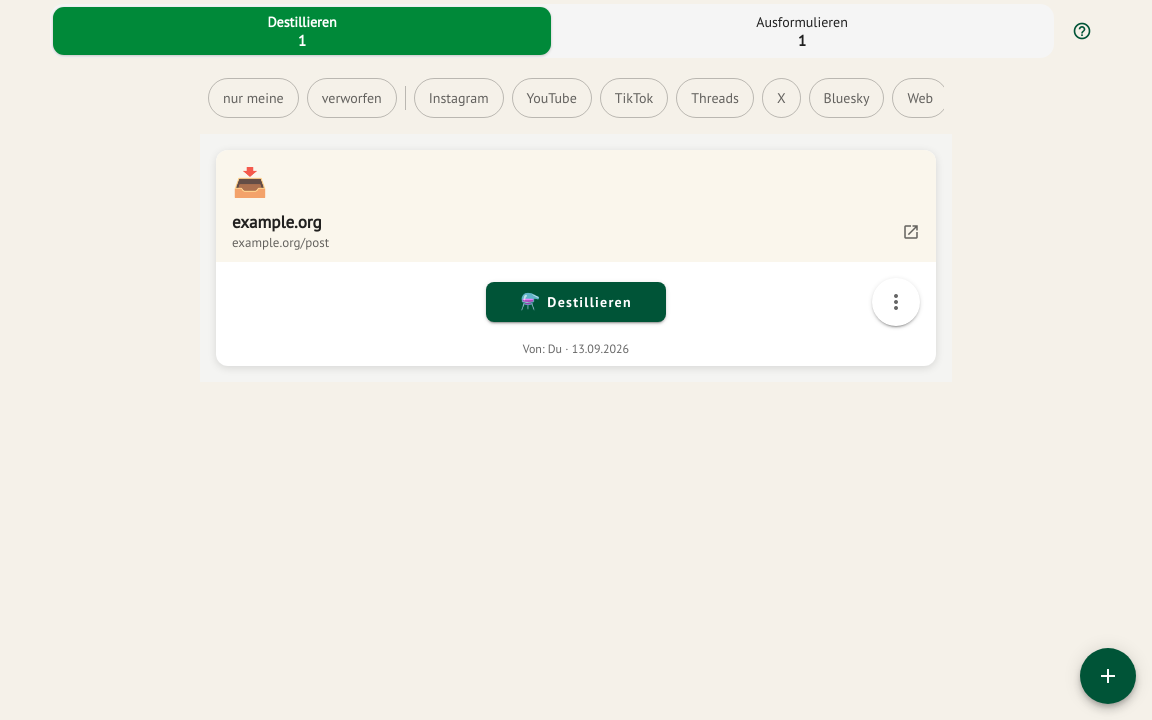
Test: RawInputListComponent › Karte › beschriftet den Primaerknopf nach Stufe und laesst ihn bei Verworfenem weg
Expected: the text with class "knopf-wort" reads "Destillieren", [547,294,632,310]
Click the tab with class "tab" showing "Ausformulieren 1": click(802, 31) [553,7,1051,55]
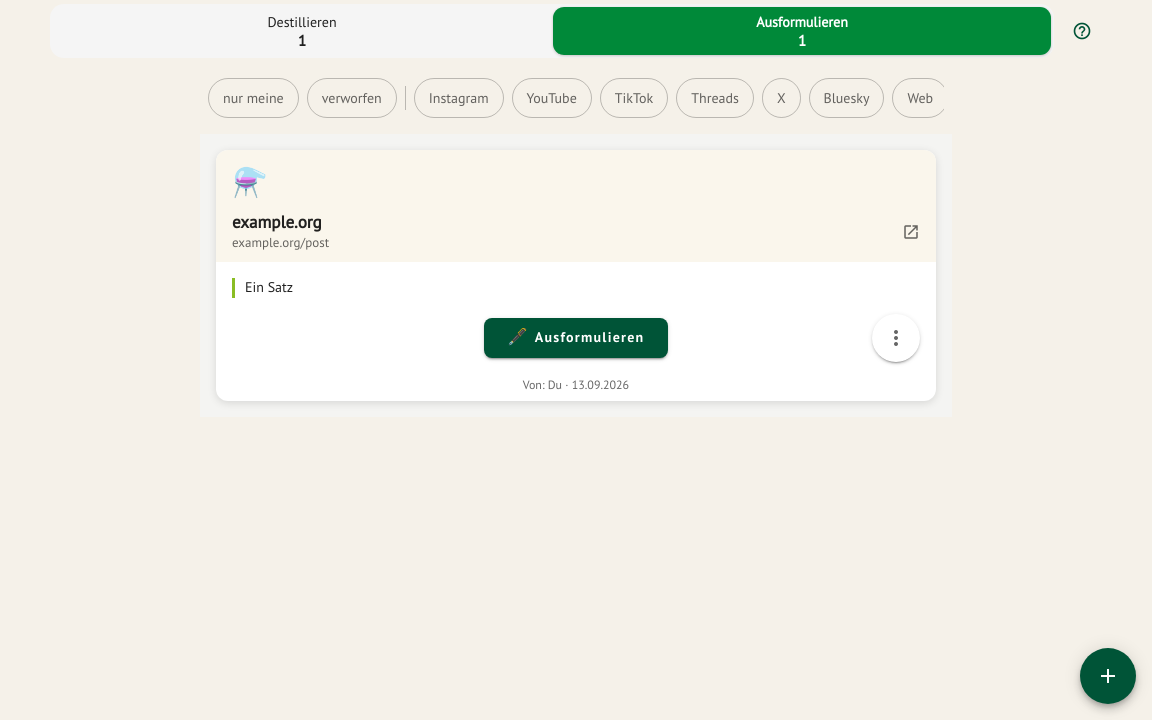
Expected: the text with class "knopf-wort" reads "Ausformulieren", [535,329,644,346]
Click the tab with class "tab" showing "Destillieren 1": click(302, 31) [53,7,551,55]
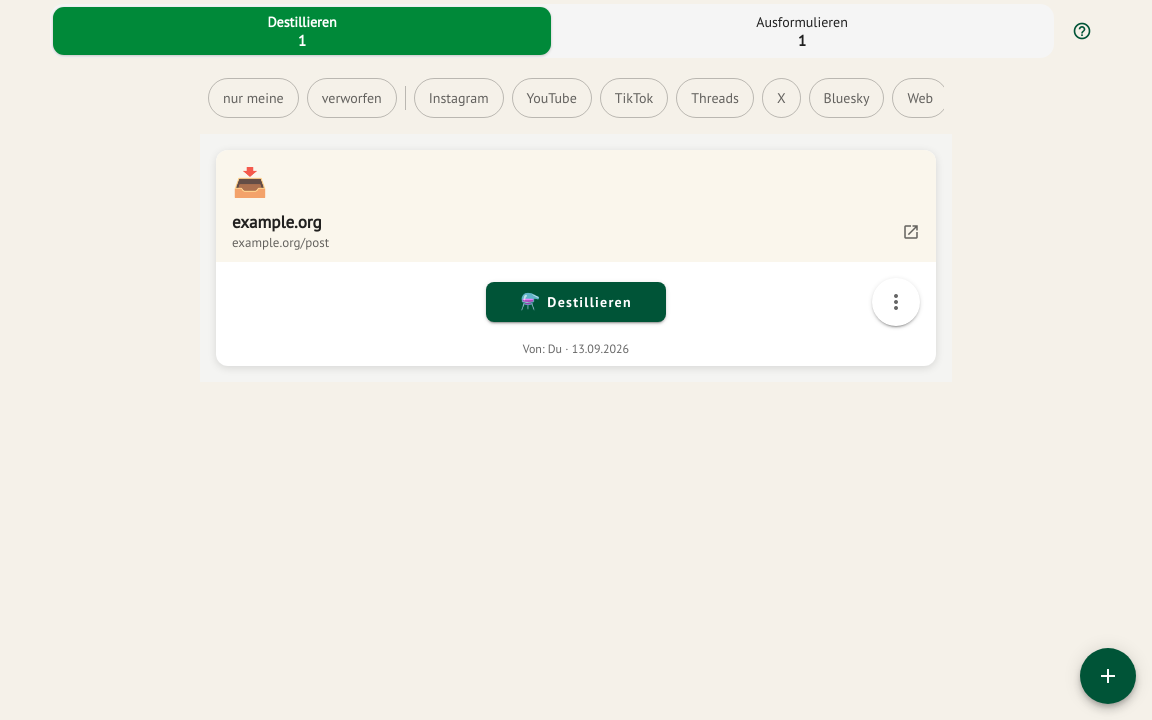
Click the button with class "filter-chip" showing "verworfen": click(352, 98) [307,78,397,118]
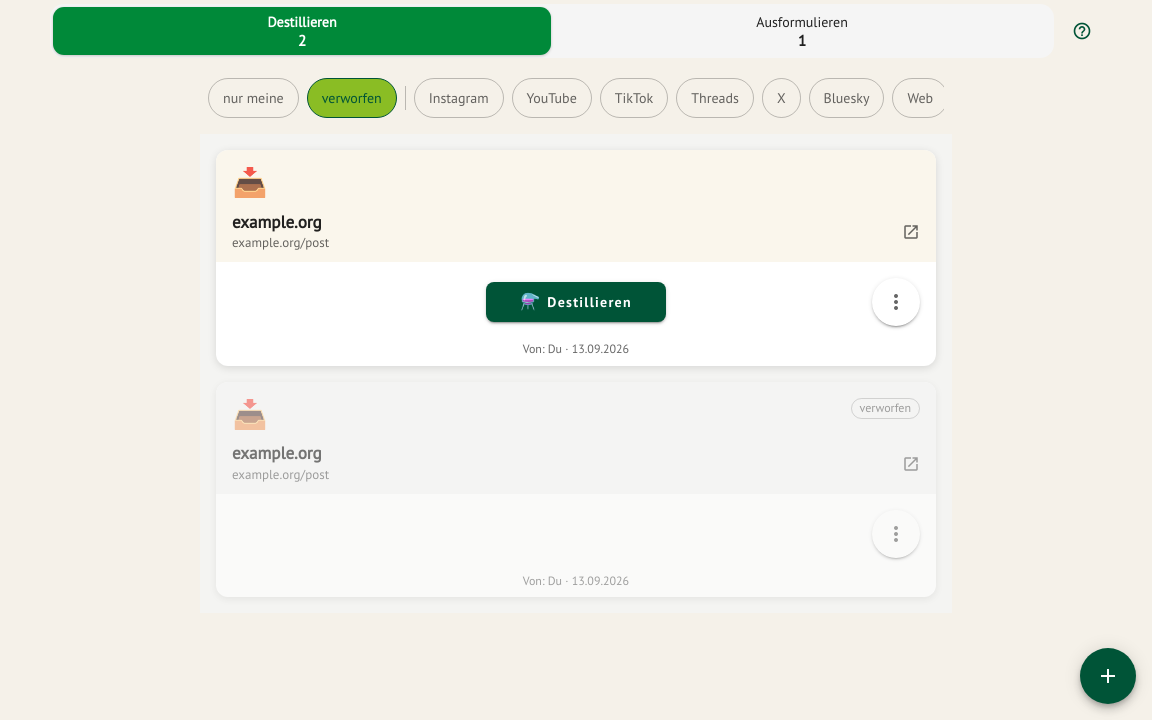
Expected: the text with class "einwurf-verworfen" reads "verworfen", [860,401,911,415]
